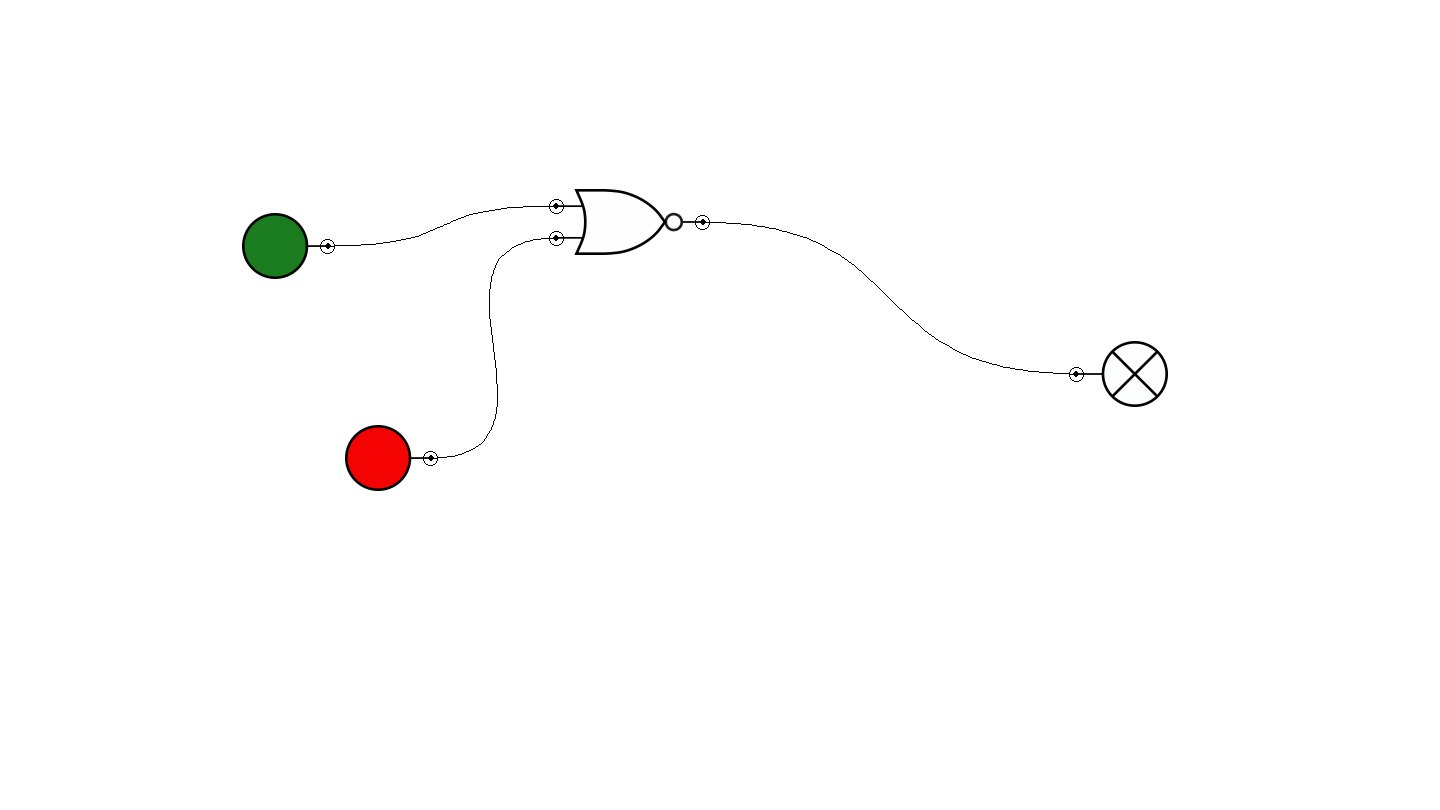bulb: (1069, 341, 1168, 407)
nor: (549, 189, 710, 255)
switch_False: (345, 425, 438, 491)
switch_True: (242, 213, 335, 279)
